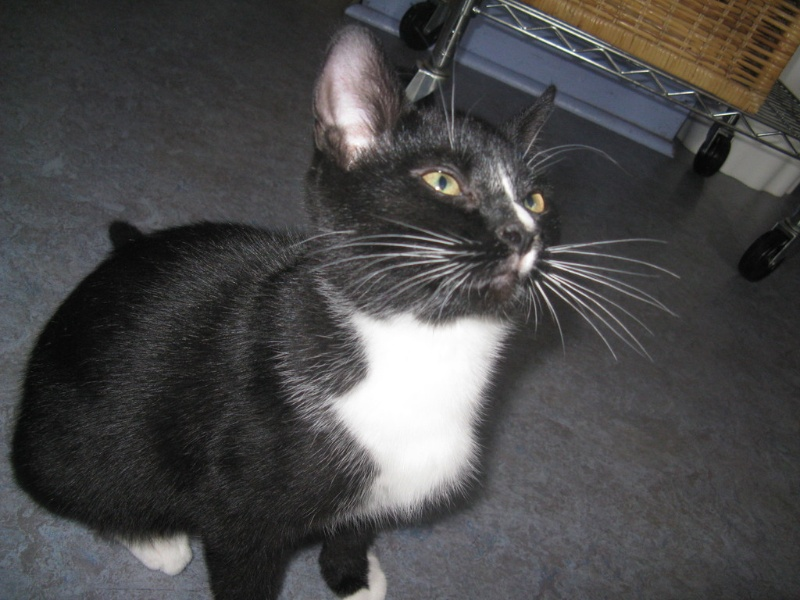cat: (16, 26, 675, 600)
